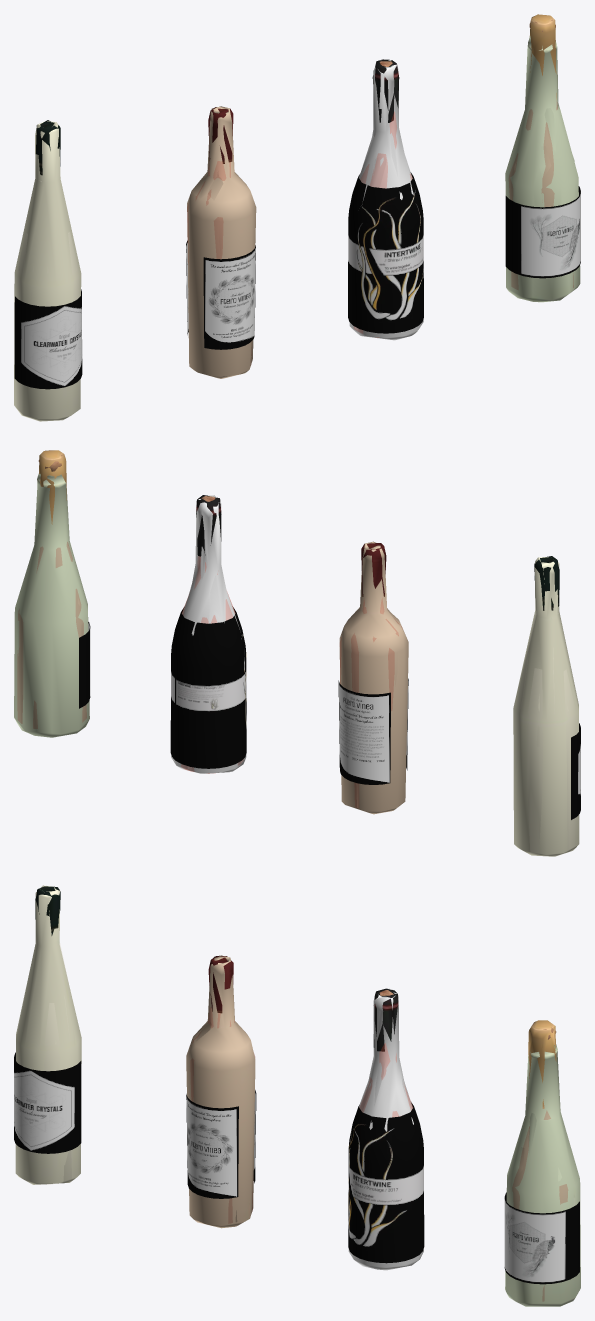
Rendered from wine_bottles_01.glb.
3 renders of one model, top to bottom at view 1: azimuth 30°, elevation 25°; view 2: azimuth 150°, elevation 25°; view 3: azimuth 330°, elevation 25°, orthographic.
Visible parts, largest first — view 1: wine_bottles_01_bordeaux, wine_bottles_01_burgundy, wine_bottles_01_alsace, wine_bottles_01_champagne; view 2: wine_bottles_01_bordeaux, wine_bottles_01_burgundy, wine_bottles_01_alsace, wine_bottles_01_champagne; view 3: wine_bottles_01_bordeaux, wine_bottles_01_burgundy, wine_bottles_01_alsace, wine_bottles_01_champagne.
Part boxes in pixels (x1=…): wine_bottles_01_bordeaux: x1=14, y1=14, x2=580, y2=421; wine_bottles_01_burgundy: x1=348, y1=112, x2=423, y2=337; wine_bottles_01_alsace: x1=14, y1=181, x2=82, y2=412; wine_bottles_01_champagne: x1=505, y1=186, x2=580, y2=278; wine_bottles_01_bordeaux: x1=14, y1=450, x2=579, y2=856; wine_bottles_01_burgundy: x1=170, y1=556, x2=246, y2=773; wine_bottles_01_alsace: x1=515, y1=611, x2=580, y2=854; wine_bottles_01_champagne: x1=79, y1=622, x2=90, y2=708; wine_bottles_01_bordeaux: x1=15, y1=885, x2=580, y2=1306; wine_bottles_01_burgundy: x1=348, y1=1043, x2=424, y2=1263; wine_bottles_01_alsace: x1=14, y1=944, x2=81, y2=1184; wine_bottles_01_champagne: x1=504, y1=1192, x2=579, y2=1284.
Size of the model in its own units: 0.6763 by 0.3309 by 0.0801.
Materials: 9 (6 with a texture image).
